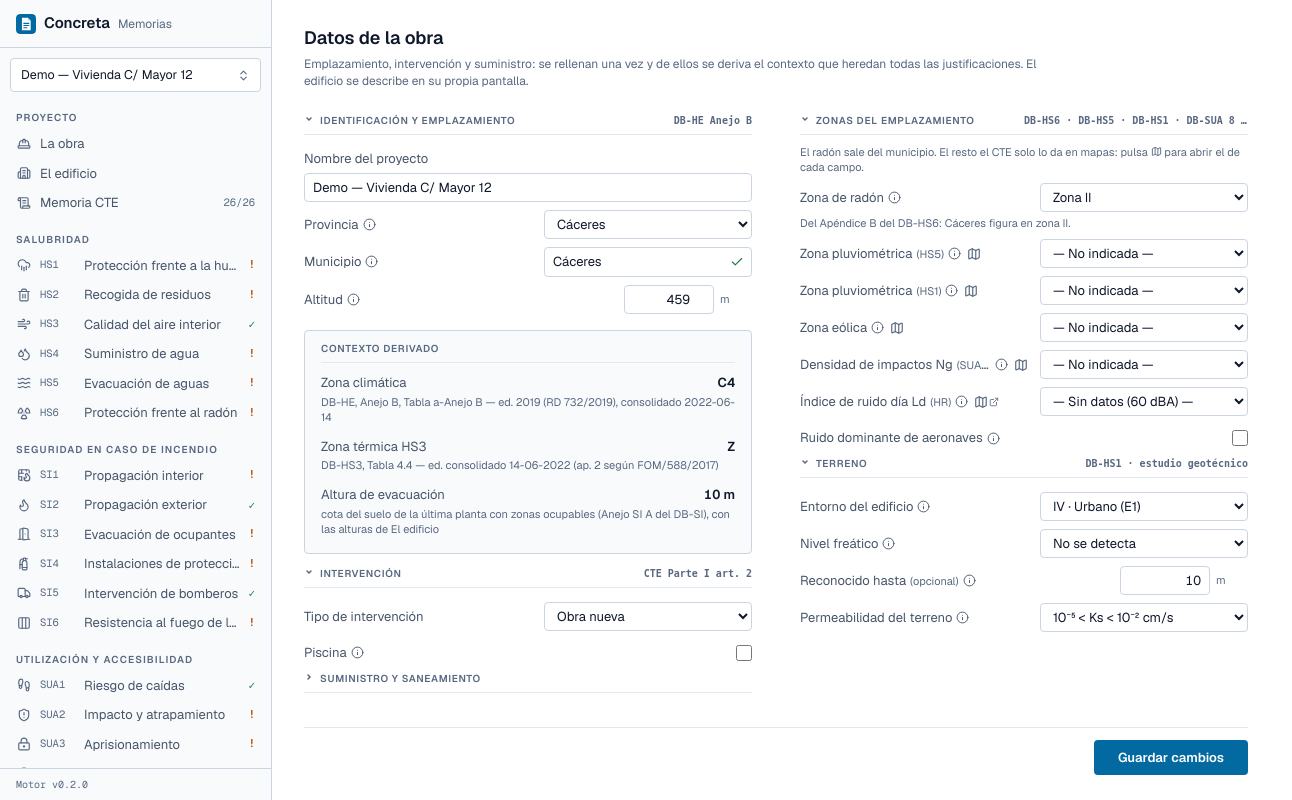
Datos de la obra › clima y terreno de HS1: lo del Demo, el freático a una profundidad y su validación
The width and height of the screenshot is (1292, 800).
Expected: the heading "Datos de la obra" is shown, x1=304 y1=26 x2=444 y2=49
Expected: the dropdown labelled "Zona eólica" shows "— No indicada —", x1=1040 y1=313 x2=1248 y2=342
Select "Zona III" in the dropdown labelled "Zona pluviométrica(HS1)" at point(1144, 291), box x1=1040 y1=276 x2=1248 y2=305
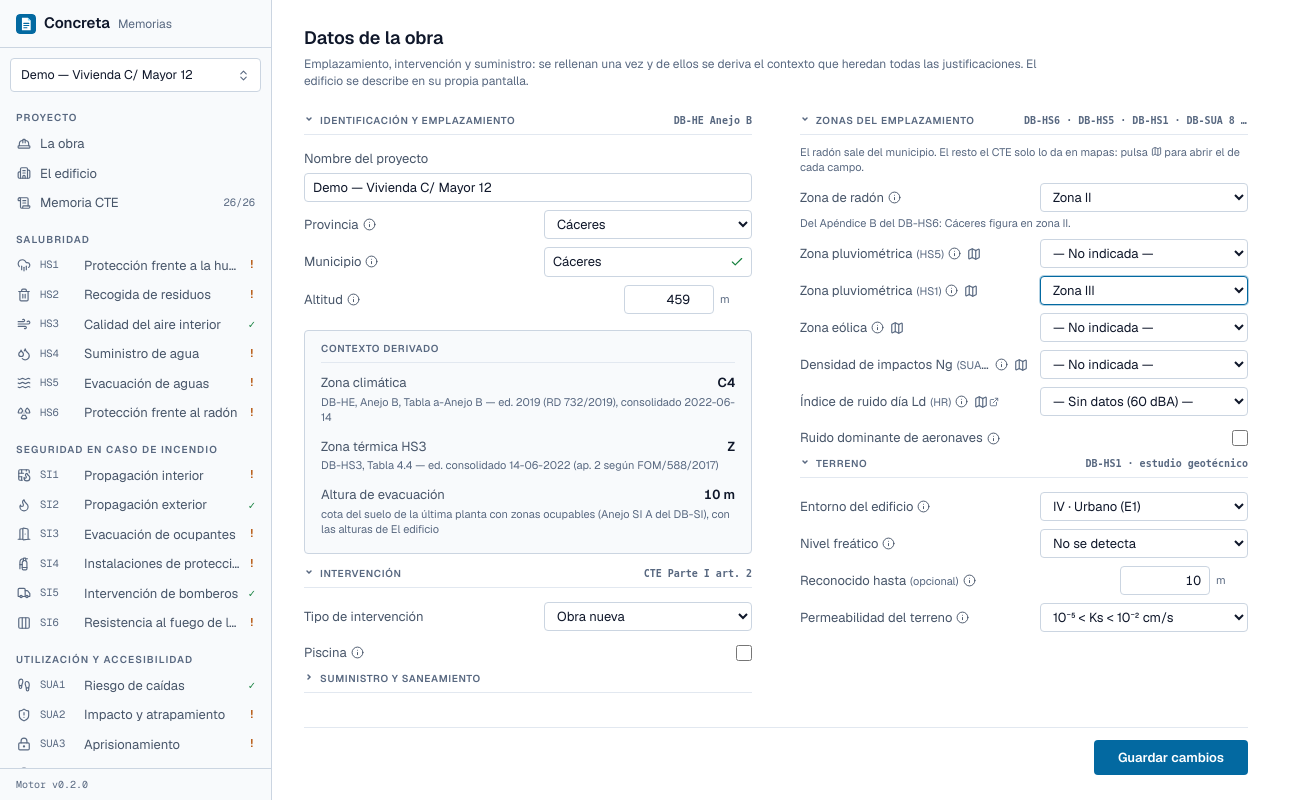
Select "A una profundidad" in the dropdown labelled "Nivel freático" at point(1144, 543), box x1=1040 y1=529 x2=1248 y2=558
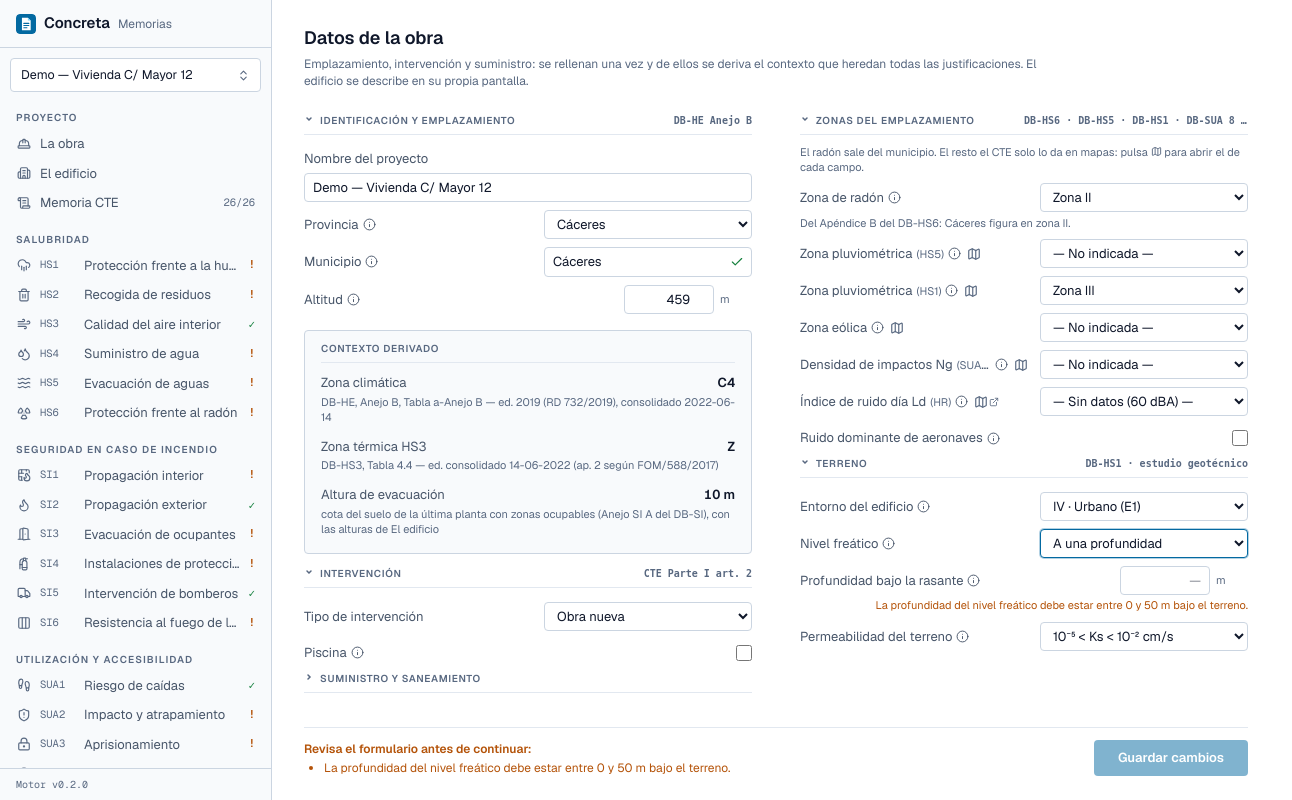
Expected: the text "La profundidad del nivel freático debe estar entre 0 y 50 m" is shown 2 times, x1=875 y1=598 x2=1248 y2=612; x1=324 y1=760 x2=730 y2=776
Type "4,5" into the field labelled "Profundidad bajo la rasante" at point(1165, 581), box x1=1120 y1=566 x2=1210 y2=595
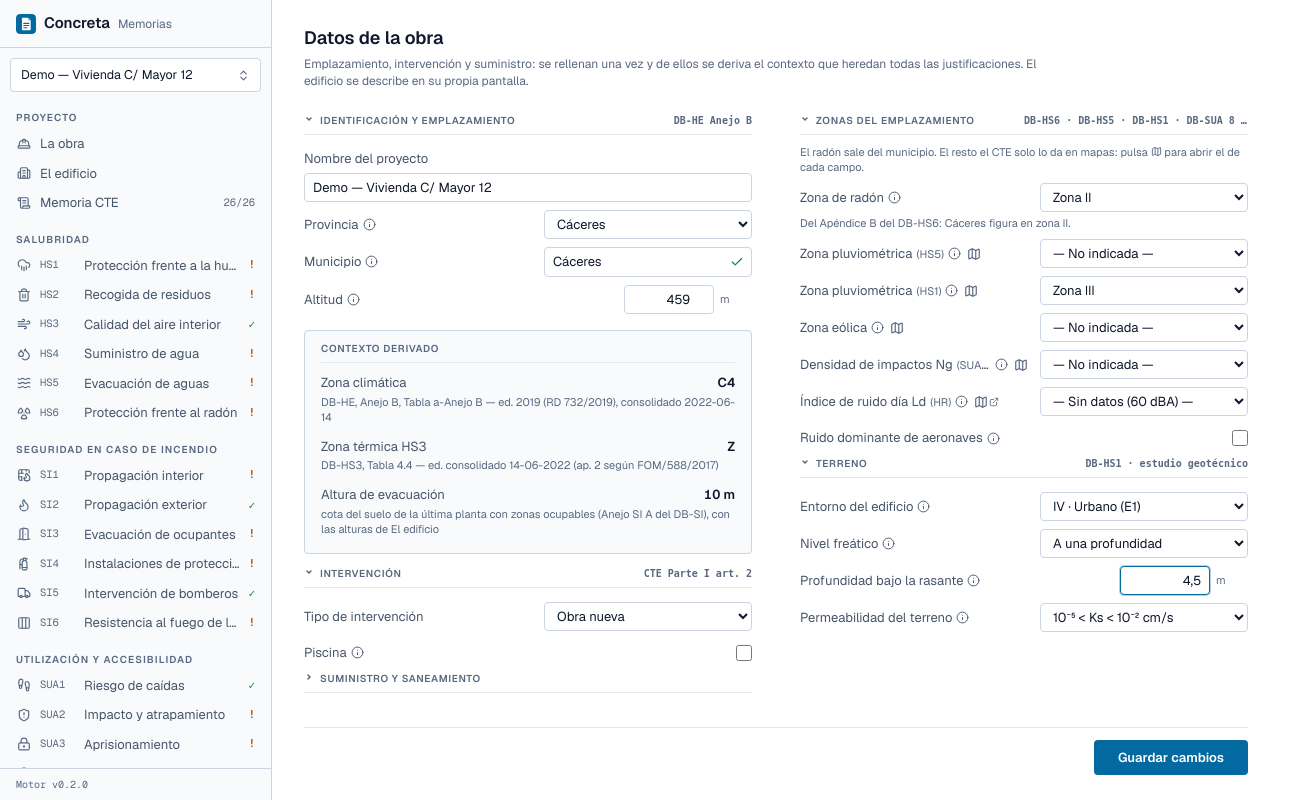
Expected: the text "La profundidad del nivel freático debe estar" is not shown
